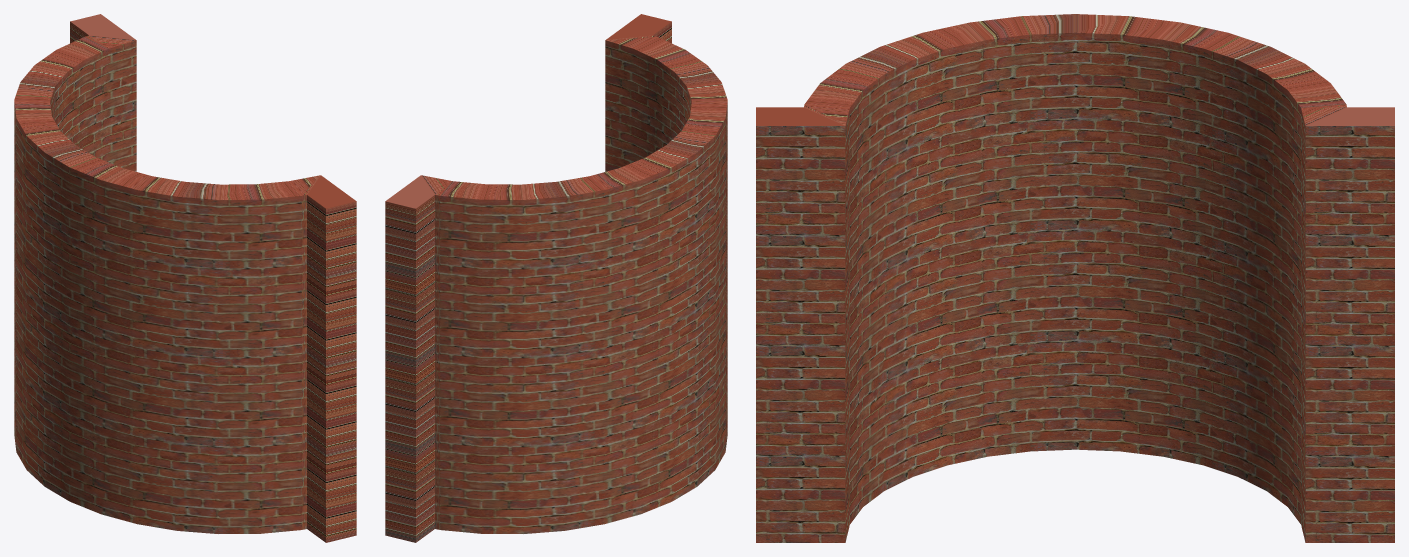
The model's file is wall 1.fbx.
3 views of the same model, side by side, from view 1: azimuth 30°, elevation 25°; view 2: azimuth 150°, elevation 25°; view 3: azimuth 270°, elevation 25° (orthographic). The views are drawn at different scales.
Parts seen in each view (by area): view 1: Cylinder; view 2: Cylinder; view 3: Cylinder.
Boxes of the visible parts, box(x1,y1,x2,y2) form: Cylinder: box(14, 14, 356, 542); Cylinder: box(385, 14, 727, 542); Cylinder: box(756, 14, 1394, 542).
Bounding box in the file's own units: 144 × 250 × 347.
